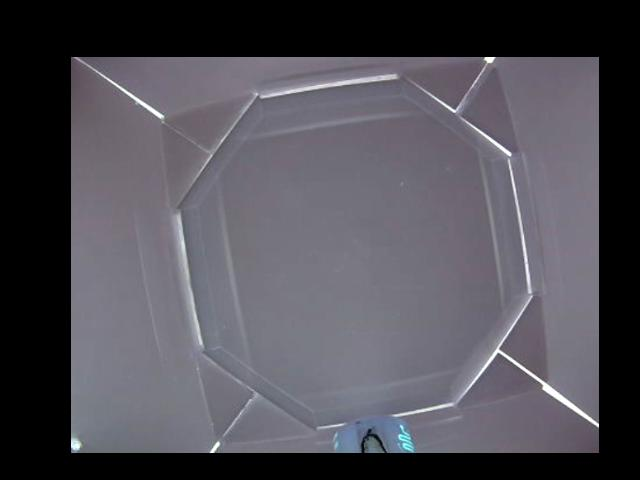Bottle: (332, 415, 413, 452)
